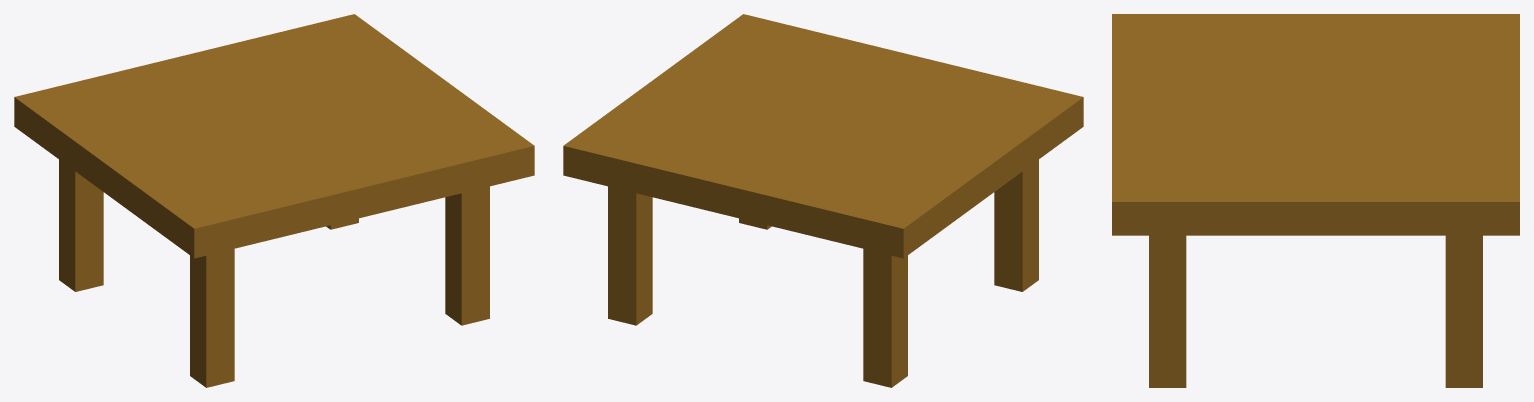
File: obj_table_livingroom.obj
3 views of the same model, side by side, from view 1: azimuth 30°, elevation 25°; view 2: azimuth 150°, elevation 25°; view 3: azimuth 270°, elevation 25° (orthographic). The views are drawn at different scales.
Parts seen in each view (by area): view 1: obj_table_livingroom; view 2: obj_table_livingroom; view 3: obj_table_livingroom.
Part boxes in pixels (x1,y1,x2,y2): obj_table_livingroom: (14,14,534,387); obj_table_livingroom: (563,14,1083,387); obj_table_livingroom: (1112,14,1519,387).
Bounding box in the file's own units: 12 × 6 × 11.
Materials: 1 (1 with a texture image).
